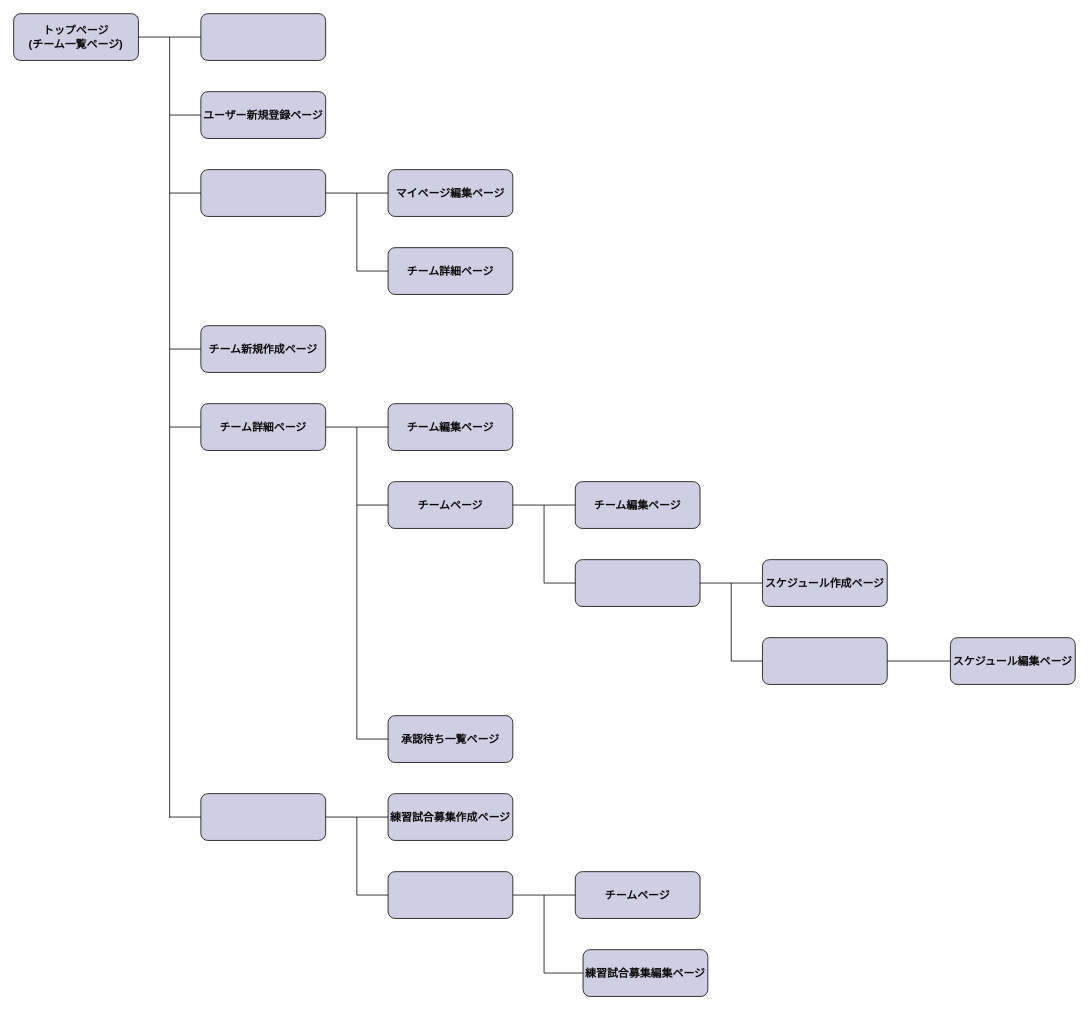
Some shapes in this 1089 by 1010 pixel diagram are drawn without their labels. Here are the shapes that lost their labels. From the top down, the centre of each, then its label:
At (x=263, y=36): "ユーザログインページ".
At (x=263, y=192): "マイページ".
At (x=637, y=582): "スケジュール一覧ページ".
At (x=824, y=660): "スケジュール詳細ページ".
At (x=263, y=816): "練習試合募集一覧ページ".
At (x=450, y=894): "練習試合募集詳細ページ".
